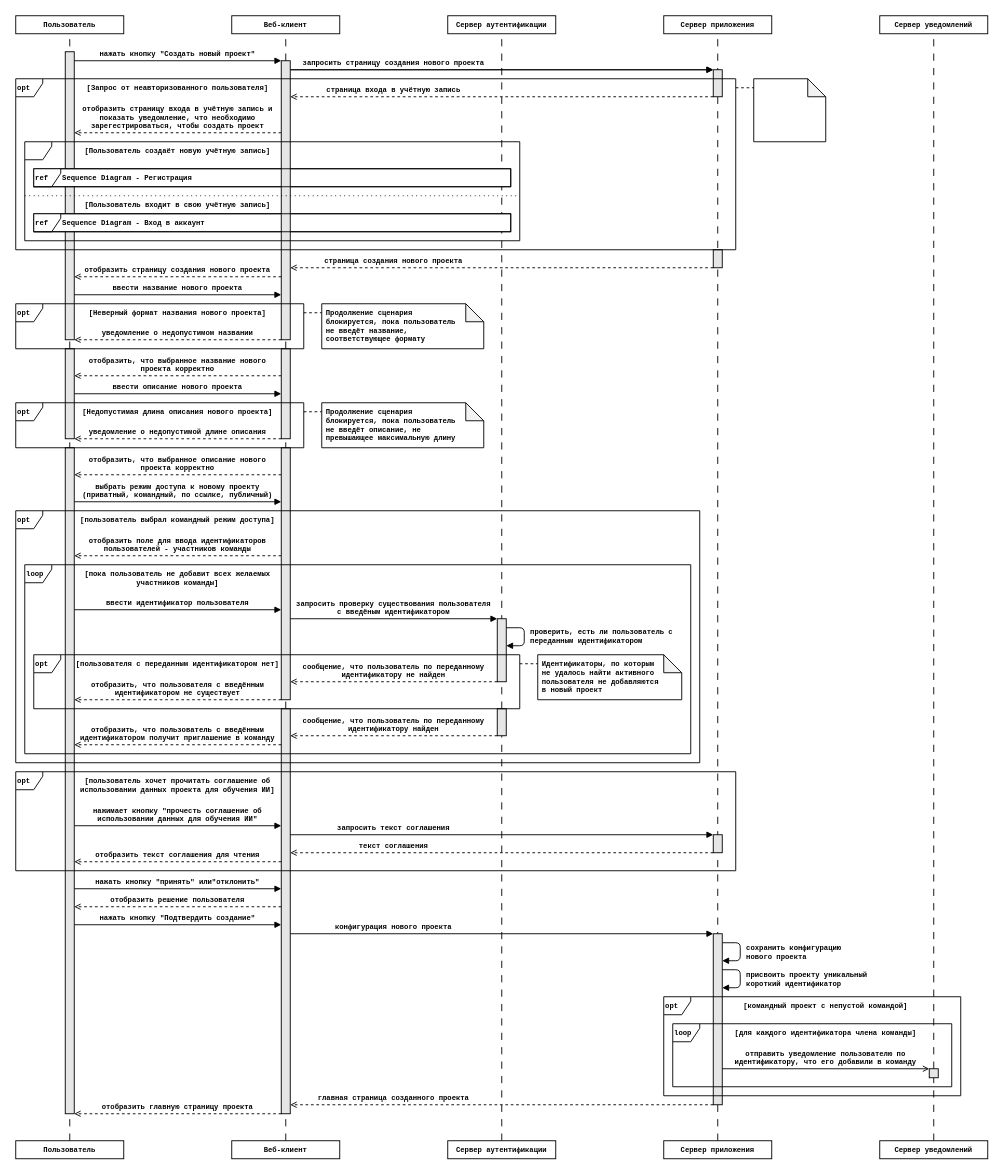
This 1004x1175 diagram has some shape labels left out. Here are the shapes that lost their labels. From the top down, the box of each, then its label:
(753, 78, 826, 142): Продолжение сценария блокируется, пока пользователь не авторизуется
(24, 141, 520, 241): alt
